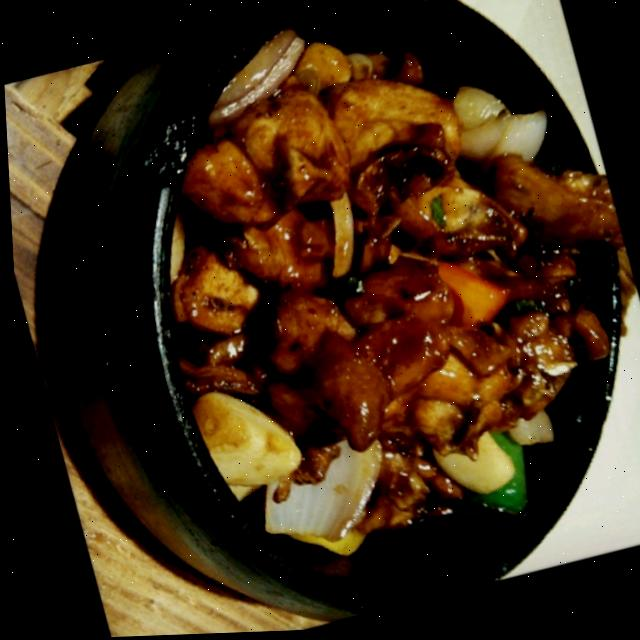鸡肉料理 含炸鸡: (34, 0, 640, 618)
